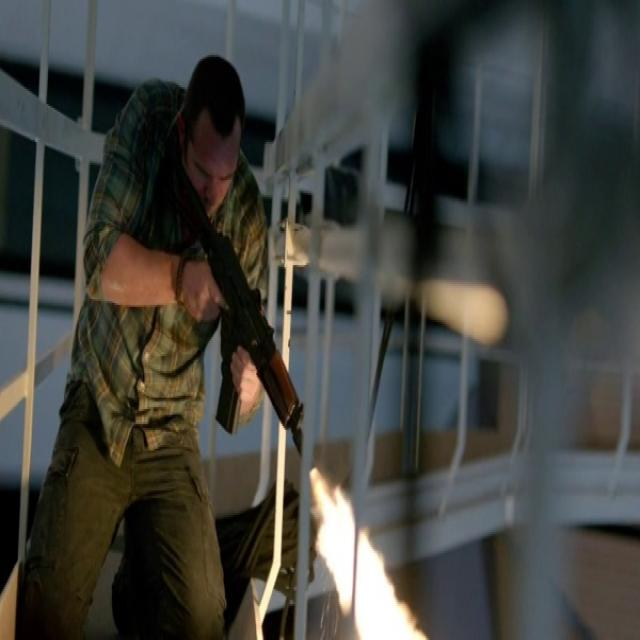rifle: (164, 146, 312, 459)
